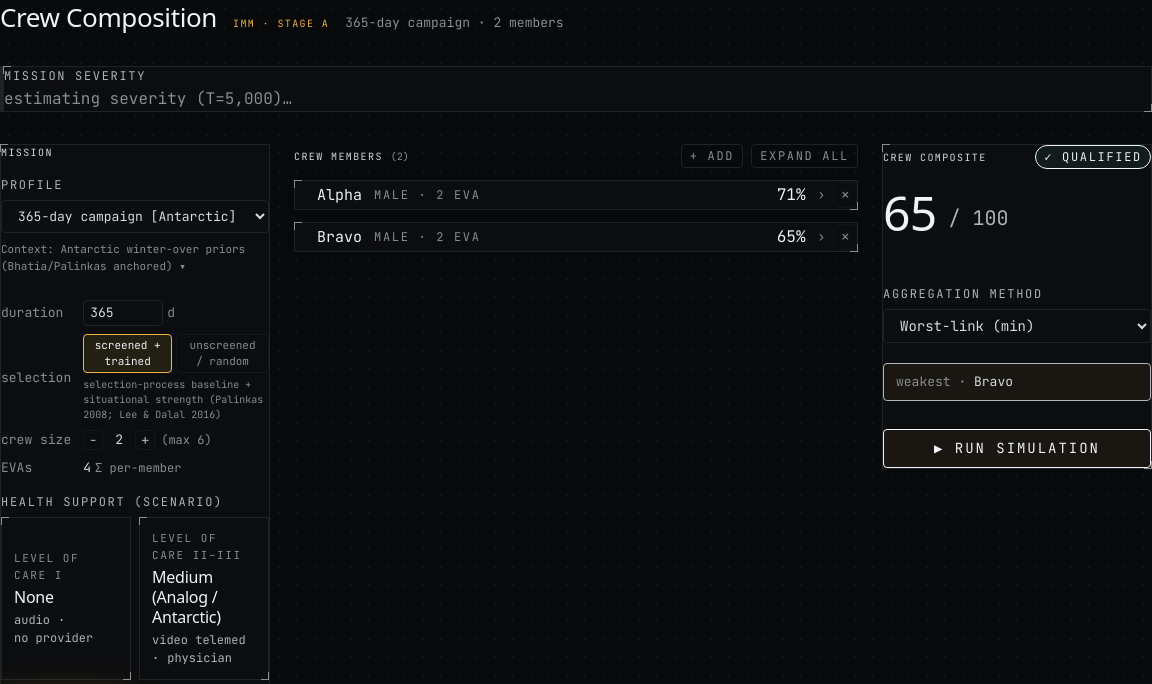
Test case: CrewComposition · I6 analog Bayesian MCMC posterior › antarctic mission: fetches posterior draws, threads the snake_case map into the worker, and renders the I6 panel
Click the button with aria-label "run IMM Monte Carlo simulation": point(1017, 448) [883,428,1151,468]
(page scrolled)
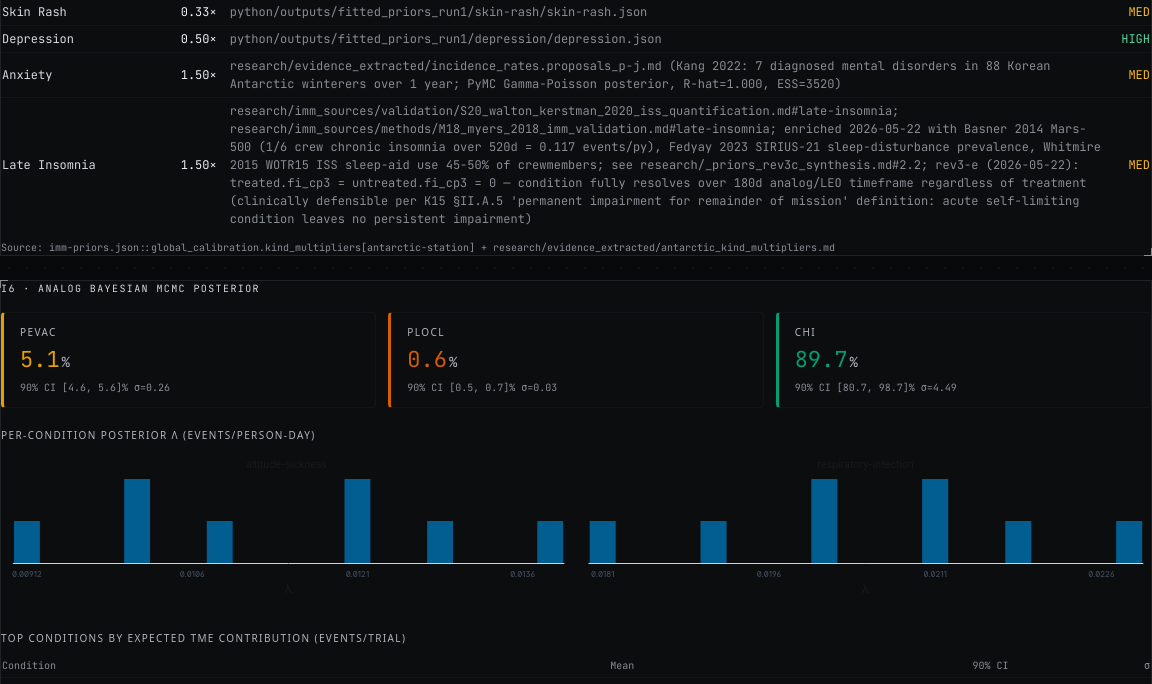
Check: the element with test id "pp-pEvac" is shown, box [1,312,376,408]
